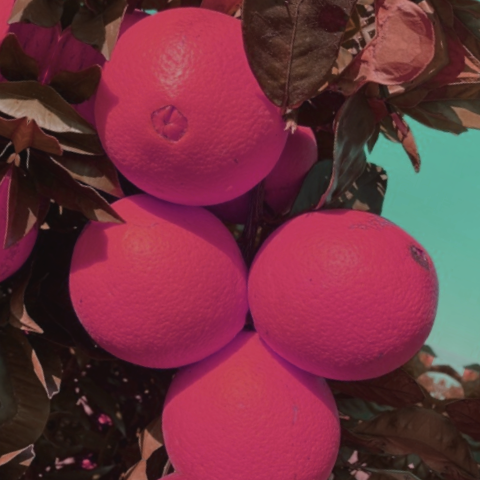orange: (59, 0, 344, 242), (30, 152, 287, 394), (225, 183, 480, 412), (117, 288, 394, 480)
